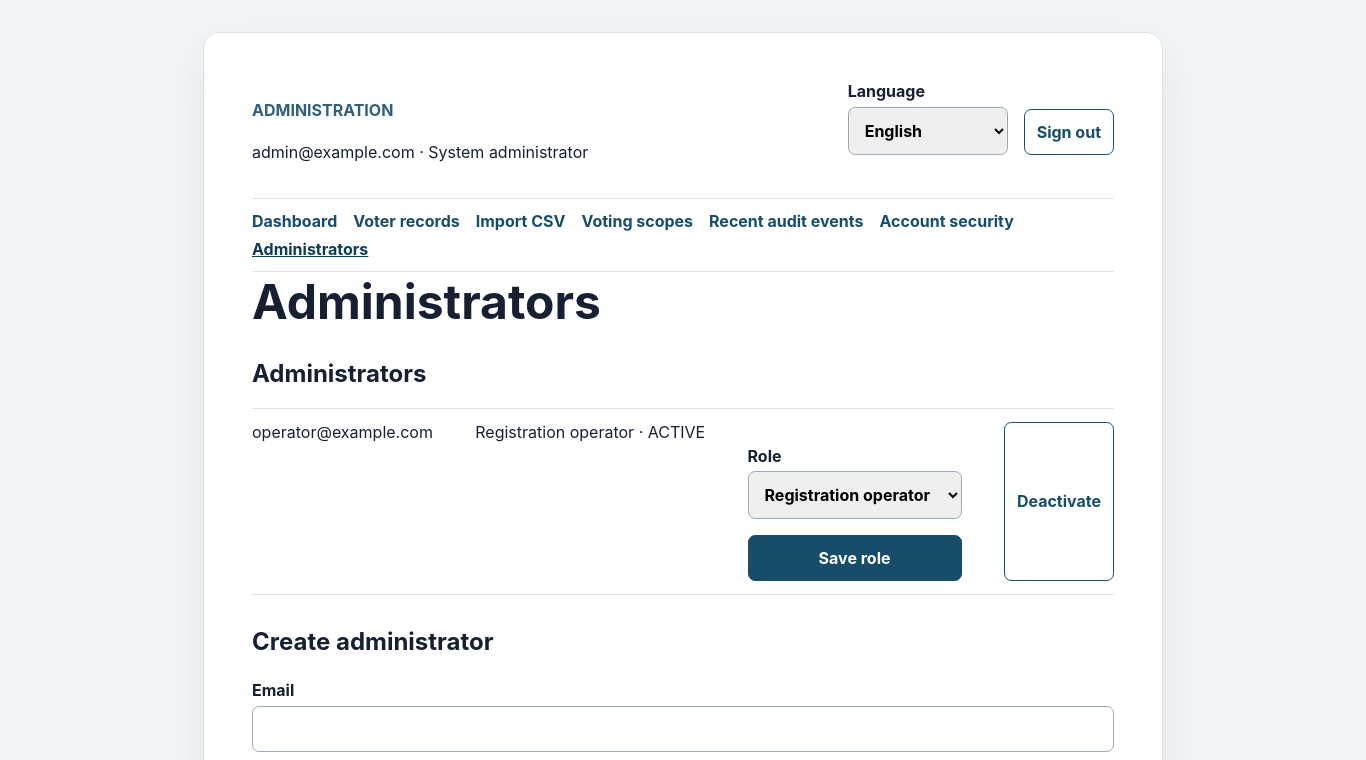
it: edits administrator role and deactivates an account
The width and height of the screenshot is (1366, 760).
Expected: the text "operator@example.com" is shown, [252, 422, 433, 442]
Step 1. Click the button "Deactivate" → click(1059, 502), box [1004, 422, 1114, 581]
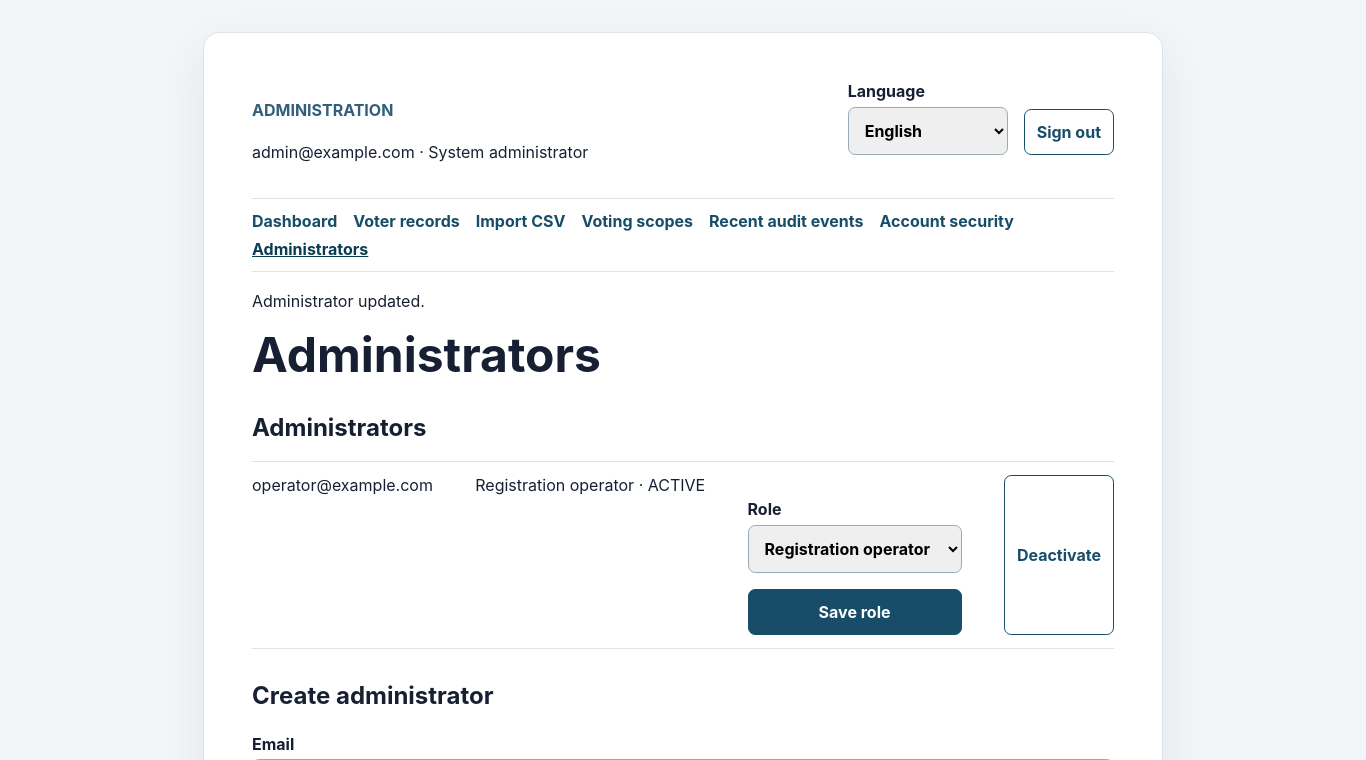
Now the text "Administrator updated." is shown, box [252, 291, 425, 311]
